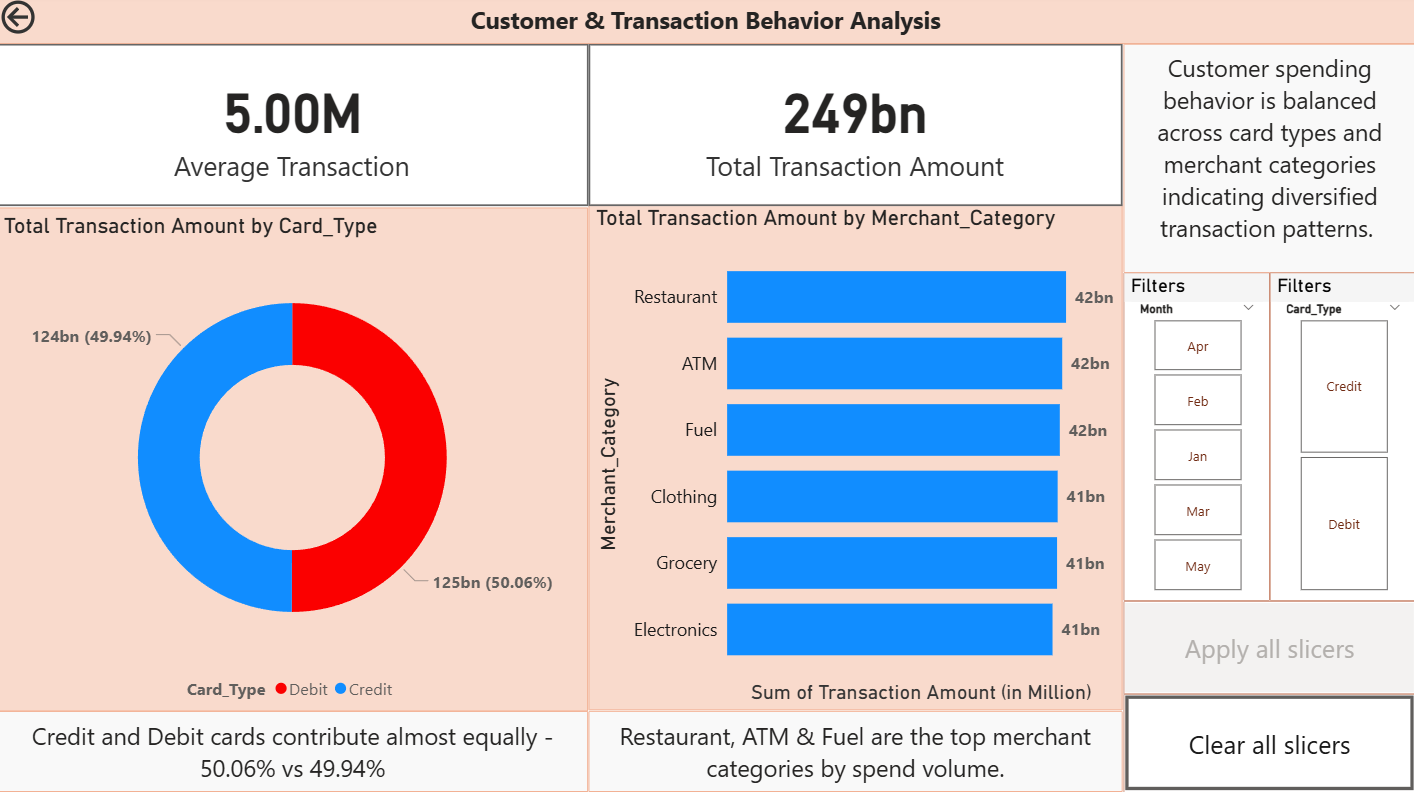

The dashboard page shown, as its layout file describes it:
{"tool":"powerbi","page":{"name":"Customer & Transaction Analysis","canvas":[1280,720],"ordinal":2},"visuals":[{"type":"donutChart","fields":{"Category":["Clean_Fraud_datection_fCSV.Card_Type"],"Y":["Clean_Fraud_datection_fCSV.Total Transaction Amount"]},"box":[1.3,191.3,532.9,454.6],"z":0},{"type":"clusteredBarChart","title":"Total Transaction Amount by Merchant_Category","fields":{"Category":["Clean_Fraud_datection_fCSV.Merchant_Category"],"Y":["Sum(Clean_Fraud_datection_fCSV.Transaction Amount (in Million))"]},"box":[534.2,188.8,481.5,457.1],"z":1000},{"type":"card","fields":{"Values":["Clean_Fraud_datection_fCSV.Average Transaction"]},"box":[0,44,534.4,146.7],"z":2000},{"type":"slicer","title":"Filters","fields":{"Values":["Clean_Fraud_datection_fCSV.Month"]},"box":[1016.2,250.7,132.1,295.9],"z":3000},{"type":"card","fields":{"Values":["Sum(Clean_Fraud_datection_fCSV.Transaction Amount (in Million))"]},"box":[534.4,44,481.8,146.7],"z":4000},{"type":"textbox","box":[0,0,1280.3,44],"z":5000},{"type":"actionButton","box":[0,0,89.9,39.8],"z":6000},{"type":"actionButton","box":[1016.2,546.6,264.1,84.4],"z":7000},{"type":"actionButton","box":[1016.2,630.4,264.1,89.3],"z":8000},{"type":"textbox","box":[1016.2,44,264.1,206.7],"z":9000},{"type":"textbox","box":[1.3,645.9,532.9,73.2],"z":10000},{"type":"textbox","box":[534.2,645.9,481.5,73.2],"z":11000},{"type":"slicer","title":"Filters","fields":{"Values":["Clean_Fraud_datection_fCSV.Card_Type"]},"box":[1148.2,250.7,132.1,295.9],"z":12000}]}

Visuals, with their boxes in screenshot pixels (x1, y1, x2, y2), scaled from the page's 1280x720 canvas onto the 1414x792 screenshot:
donutChart - Clean_Fraud_datection_fCSV.Card_Type x Clean_Fraud_datection_fCSV.Total Transaction Amount: rect(1, 210, 590, 710)
"Total Transaction Amount by Merchant_Category" clusteredBarChart: rect(590, 208, 1122, 710)
card - Clean_Fraud_datection_fCSV.Average Transaction: rect(0, 48, 590, 210)
"Filters" slicer: rect(1123, 276, 1269, 601)
card - Sum(Clean_Fraud_datection_fCSV.Transaction Amount (in Million)): rect(590, 48, 1123, 210)
textbox: rect(0, 0, 1413, 48)
actionButton: rect(0, 0, 99, 44)
actionButton: rect(1123, 601, 1413, 694)
actionButton: rect(1123, 693, 1413, 791)
textbox: rect(1123, 48, 1413, 276)
textbox: rect(1, 710, 590, 791)
textbox: rect(590, 710, 1122, 791)
"Filters" slicer: rect(1268, 276, 1413, 601)
